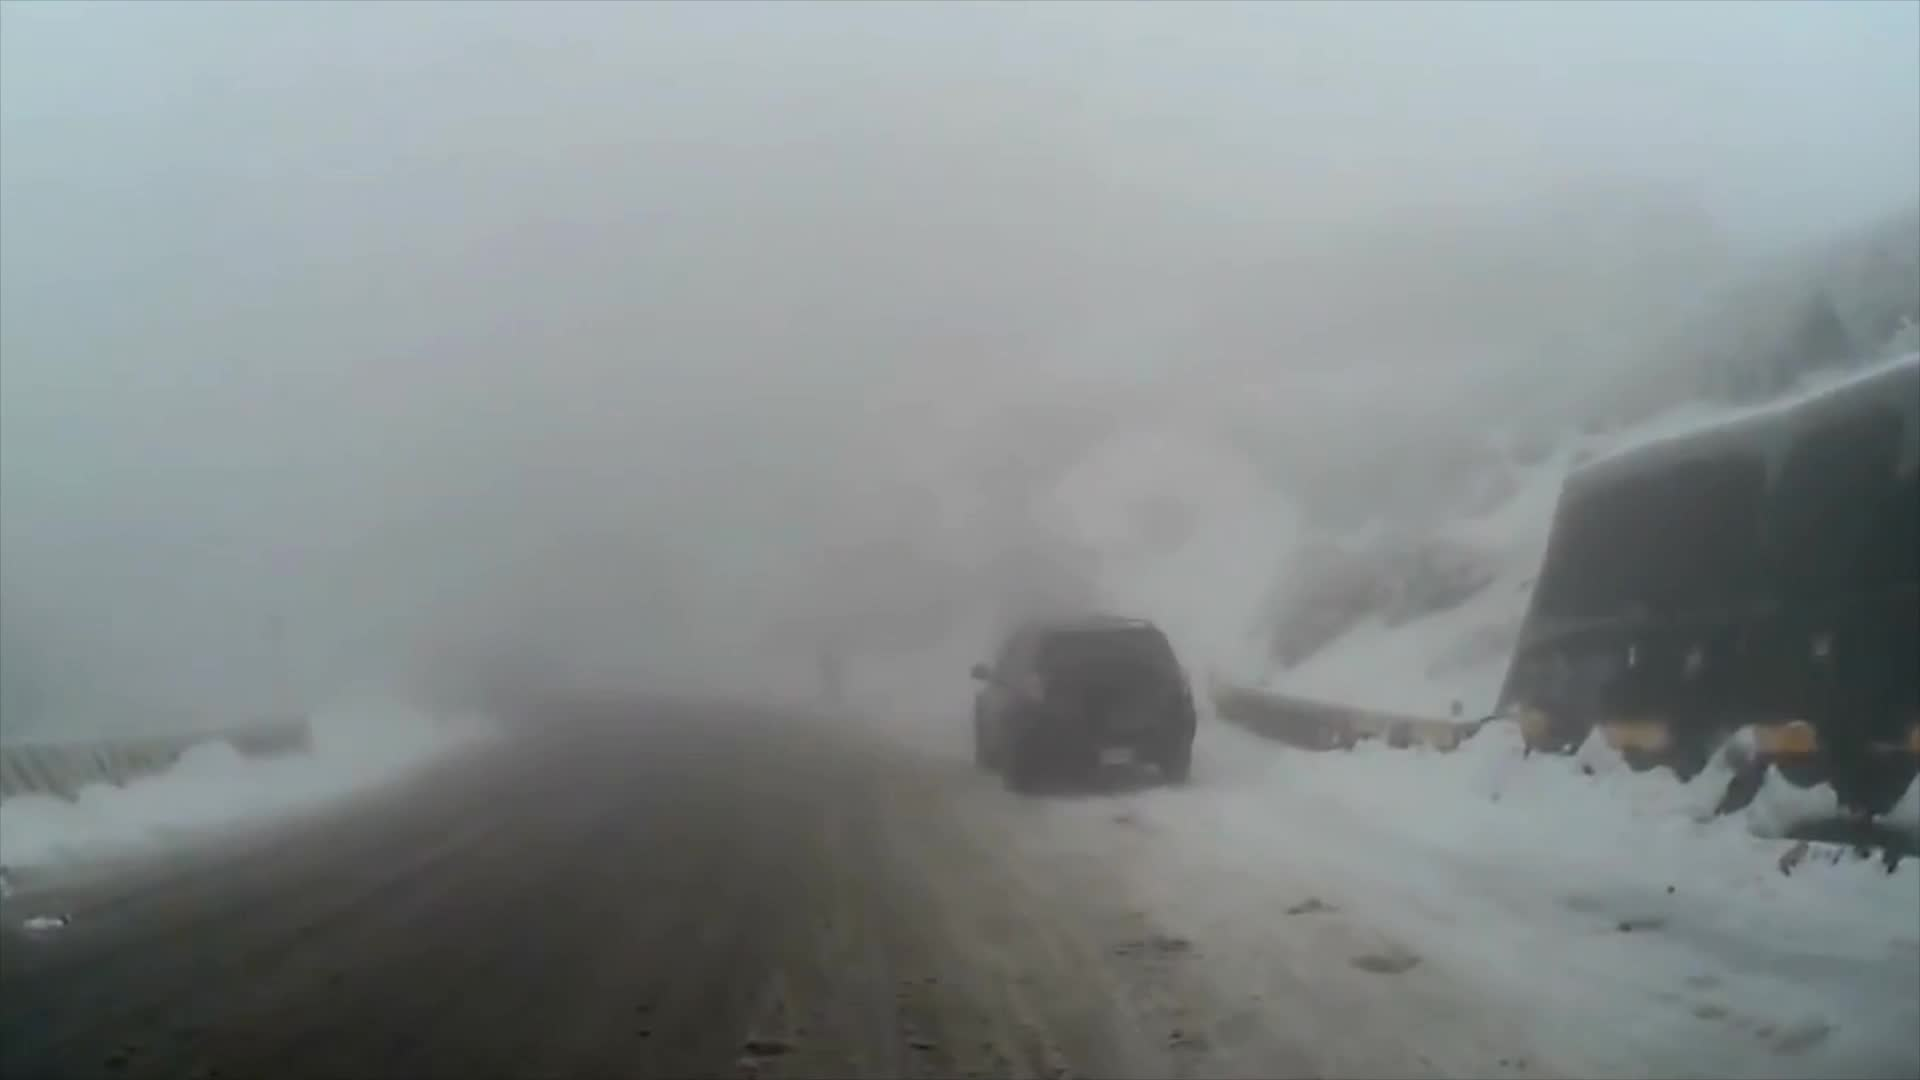vehicle: (964, 611, 1193, 794)
